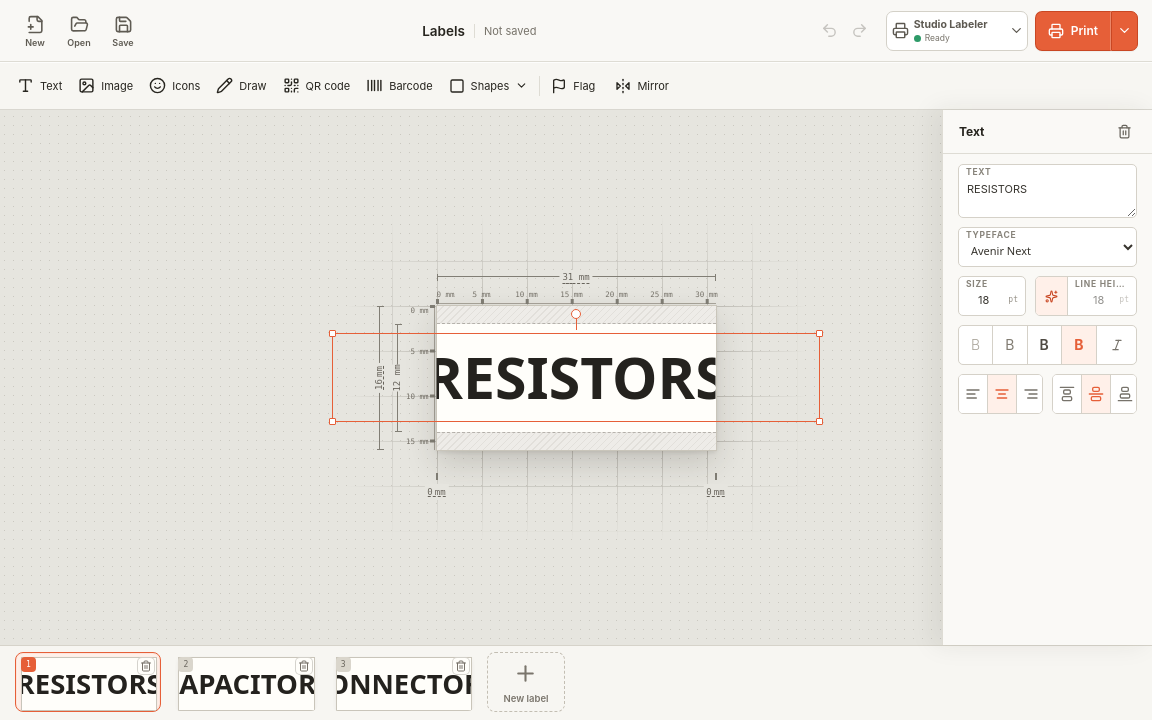
Test: LabelmakerApp › shows the configured printer and adds a plate
Expected: the text "Studio Labeler" is shown, [914, 18, 988, 31]
Expected: the number of buttons named "Select label " is 3, [16, 653, 161, 711]; [173, 653, 319, 711]; [331, 653, 476, 711]
What coordinates should you click on to do the following:
click the button with aria-label "Add label"
I would click on:
 (526, 682)
Its box is [487, 652, 565, 712].
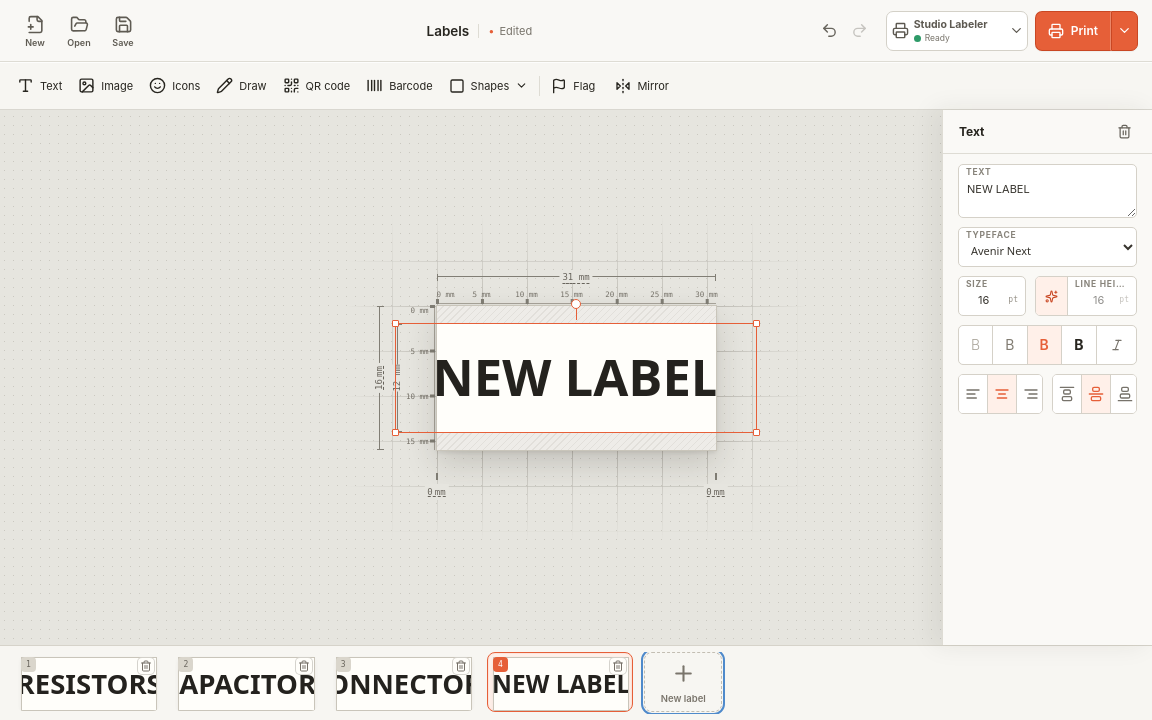
Result: the number of buttons named "Select label " is 4 at [16, 653, 161, 711]; [173, 653, 319, 711]; [331, 653, 476, 711]; [488, 653, 633, 711]
Result: the button with aria-label "Select label 4: Label 4" is shown at [488, 653, 633, 711]
Result: the text "Edited" is shown at [478, 24, 532, 38]
